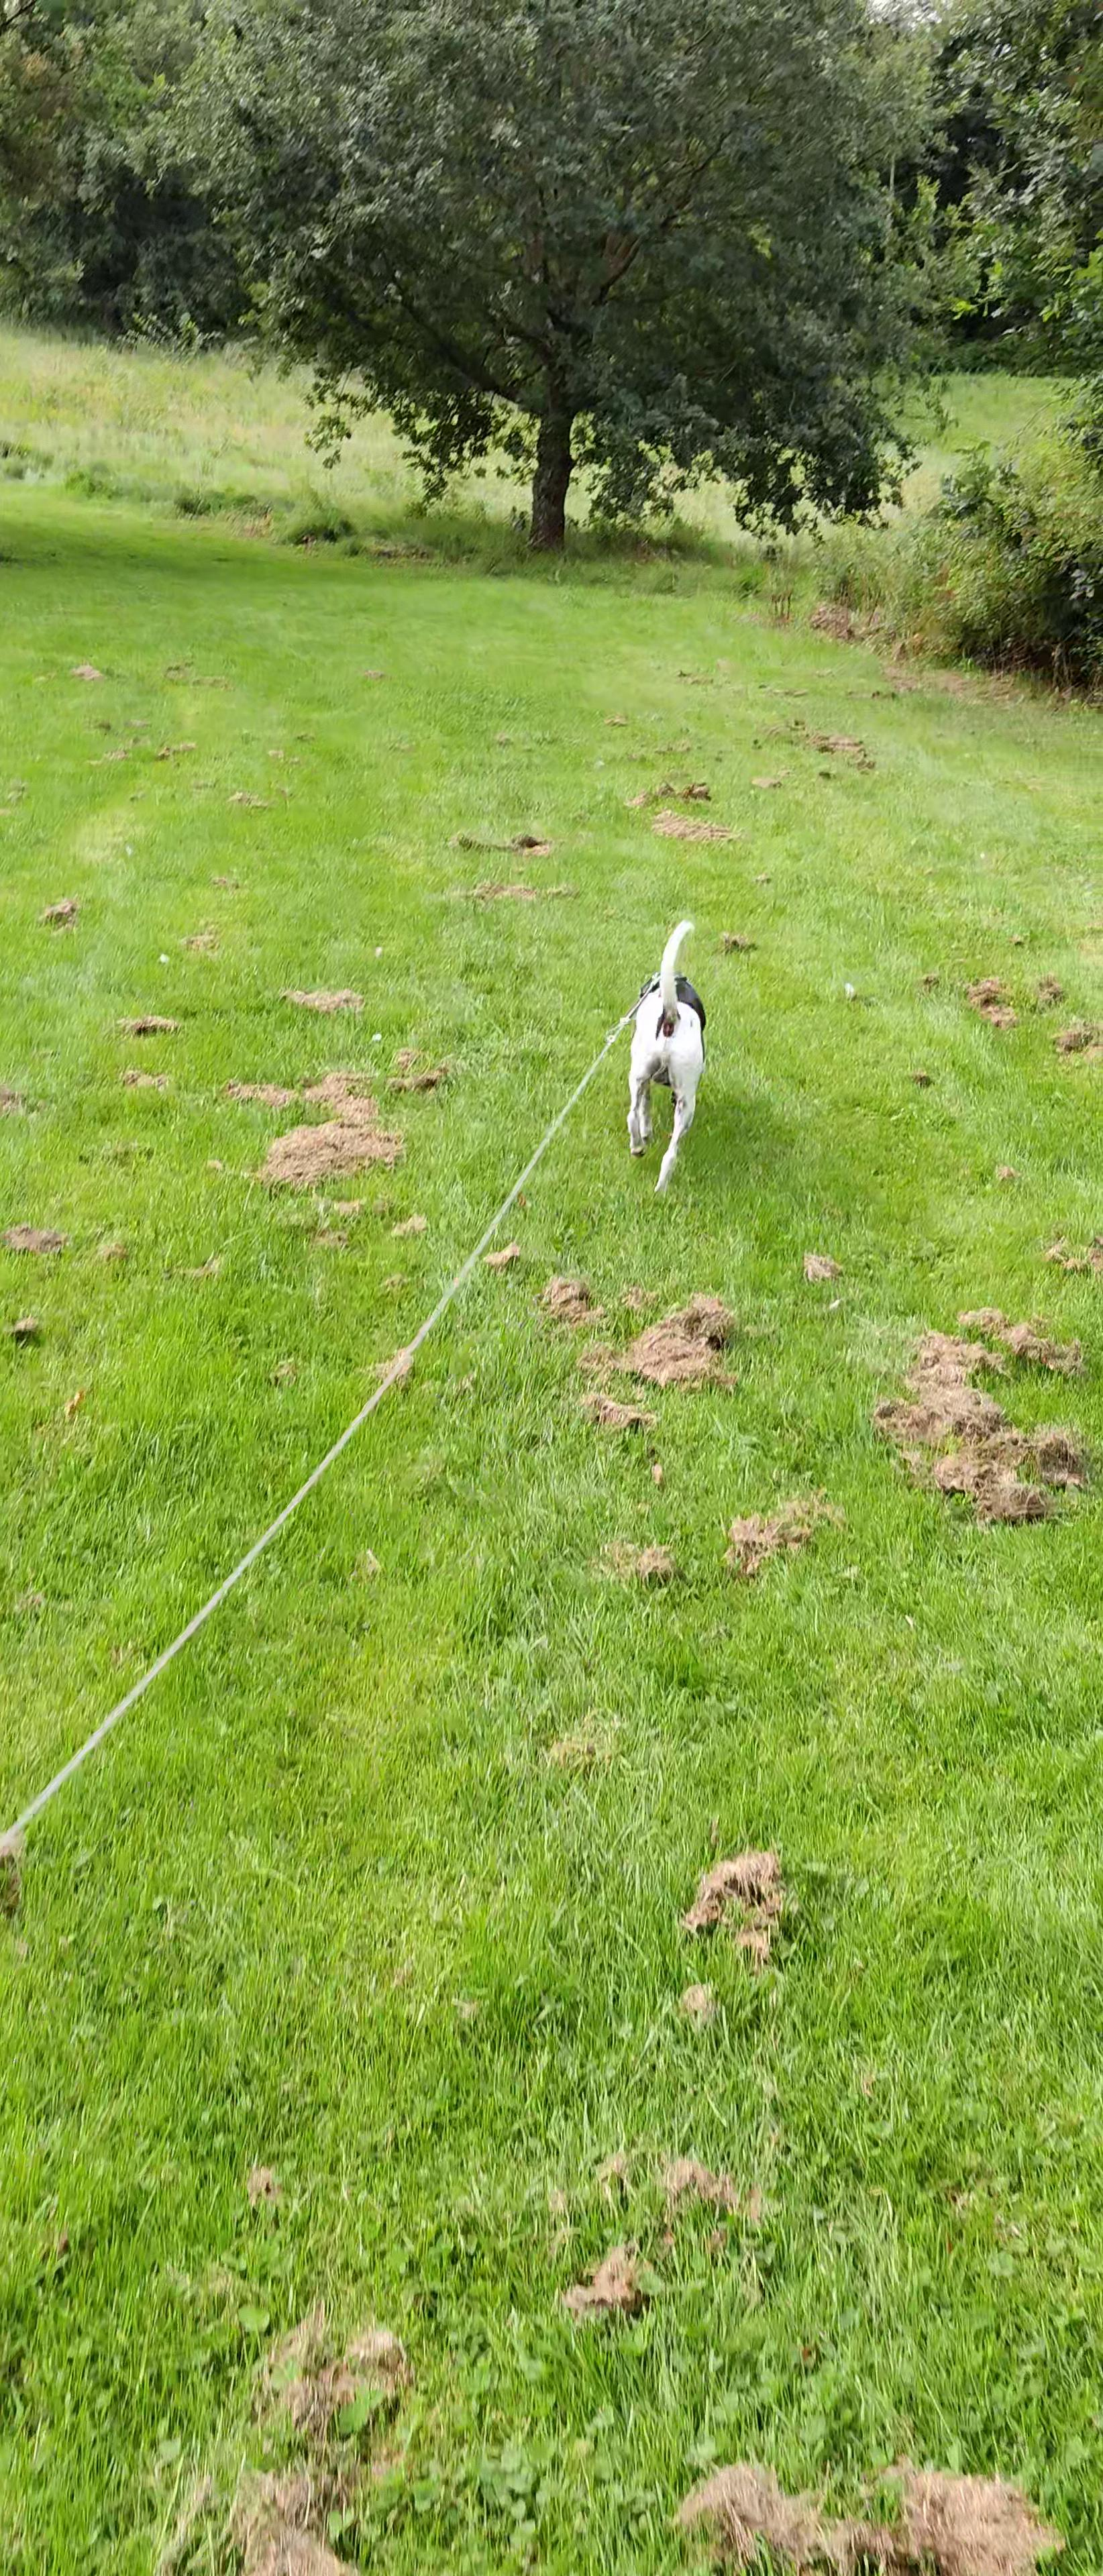Dog: (607, 897, 718, 1204)
